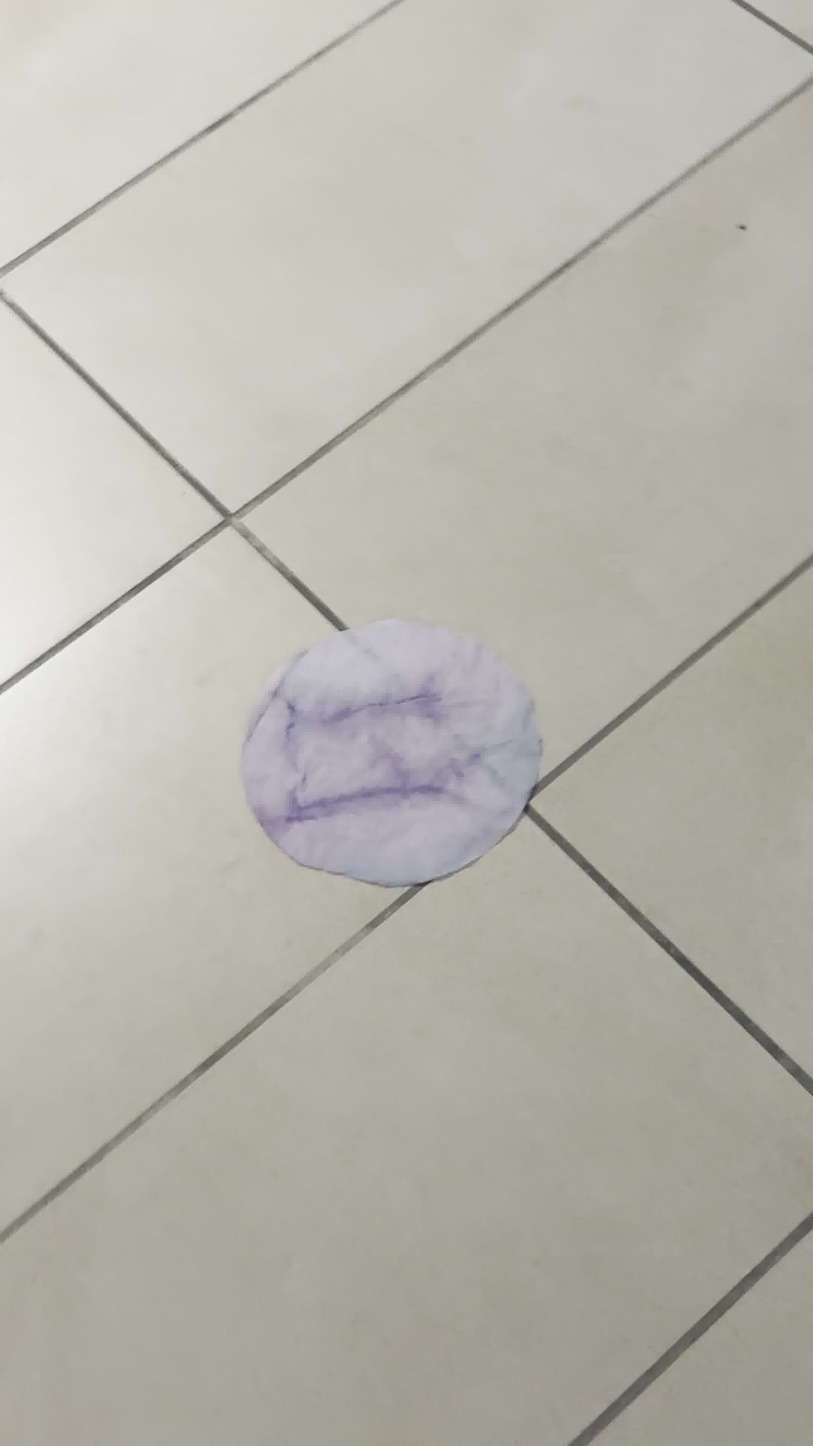Target: (239, 621, 545, 884)
